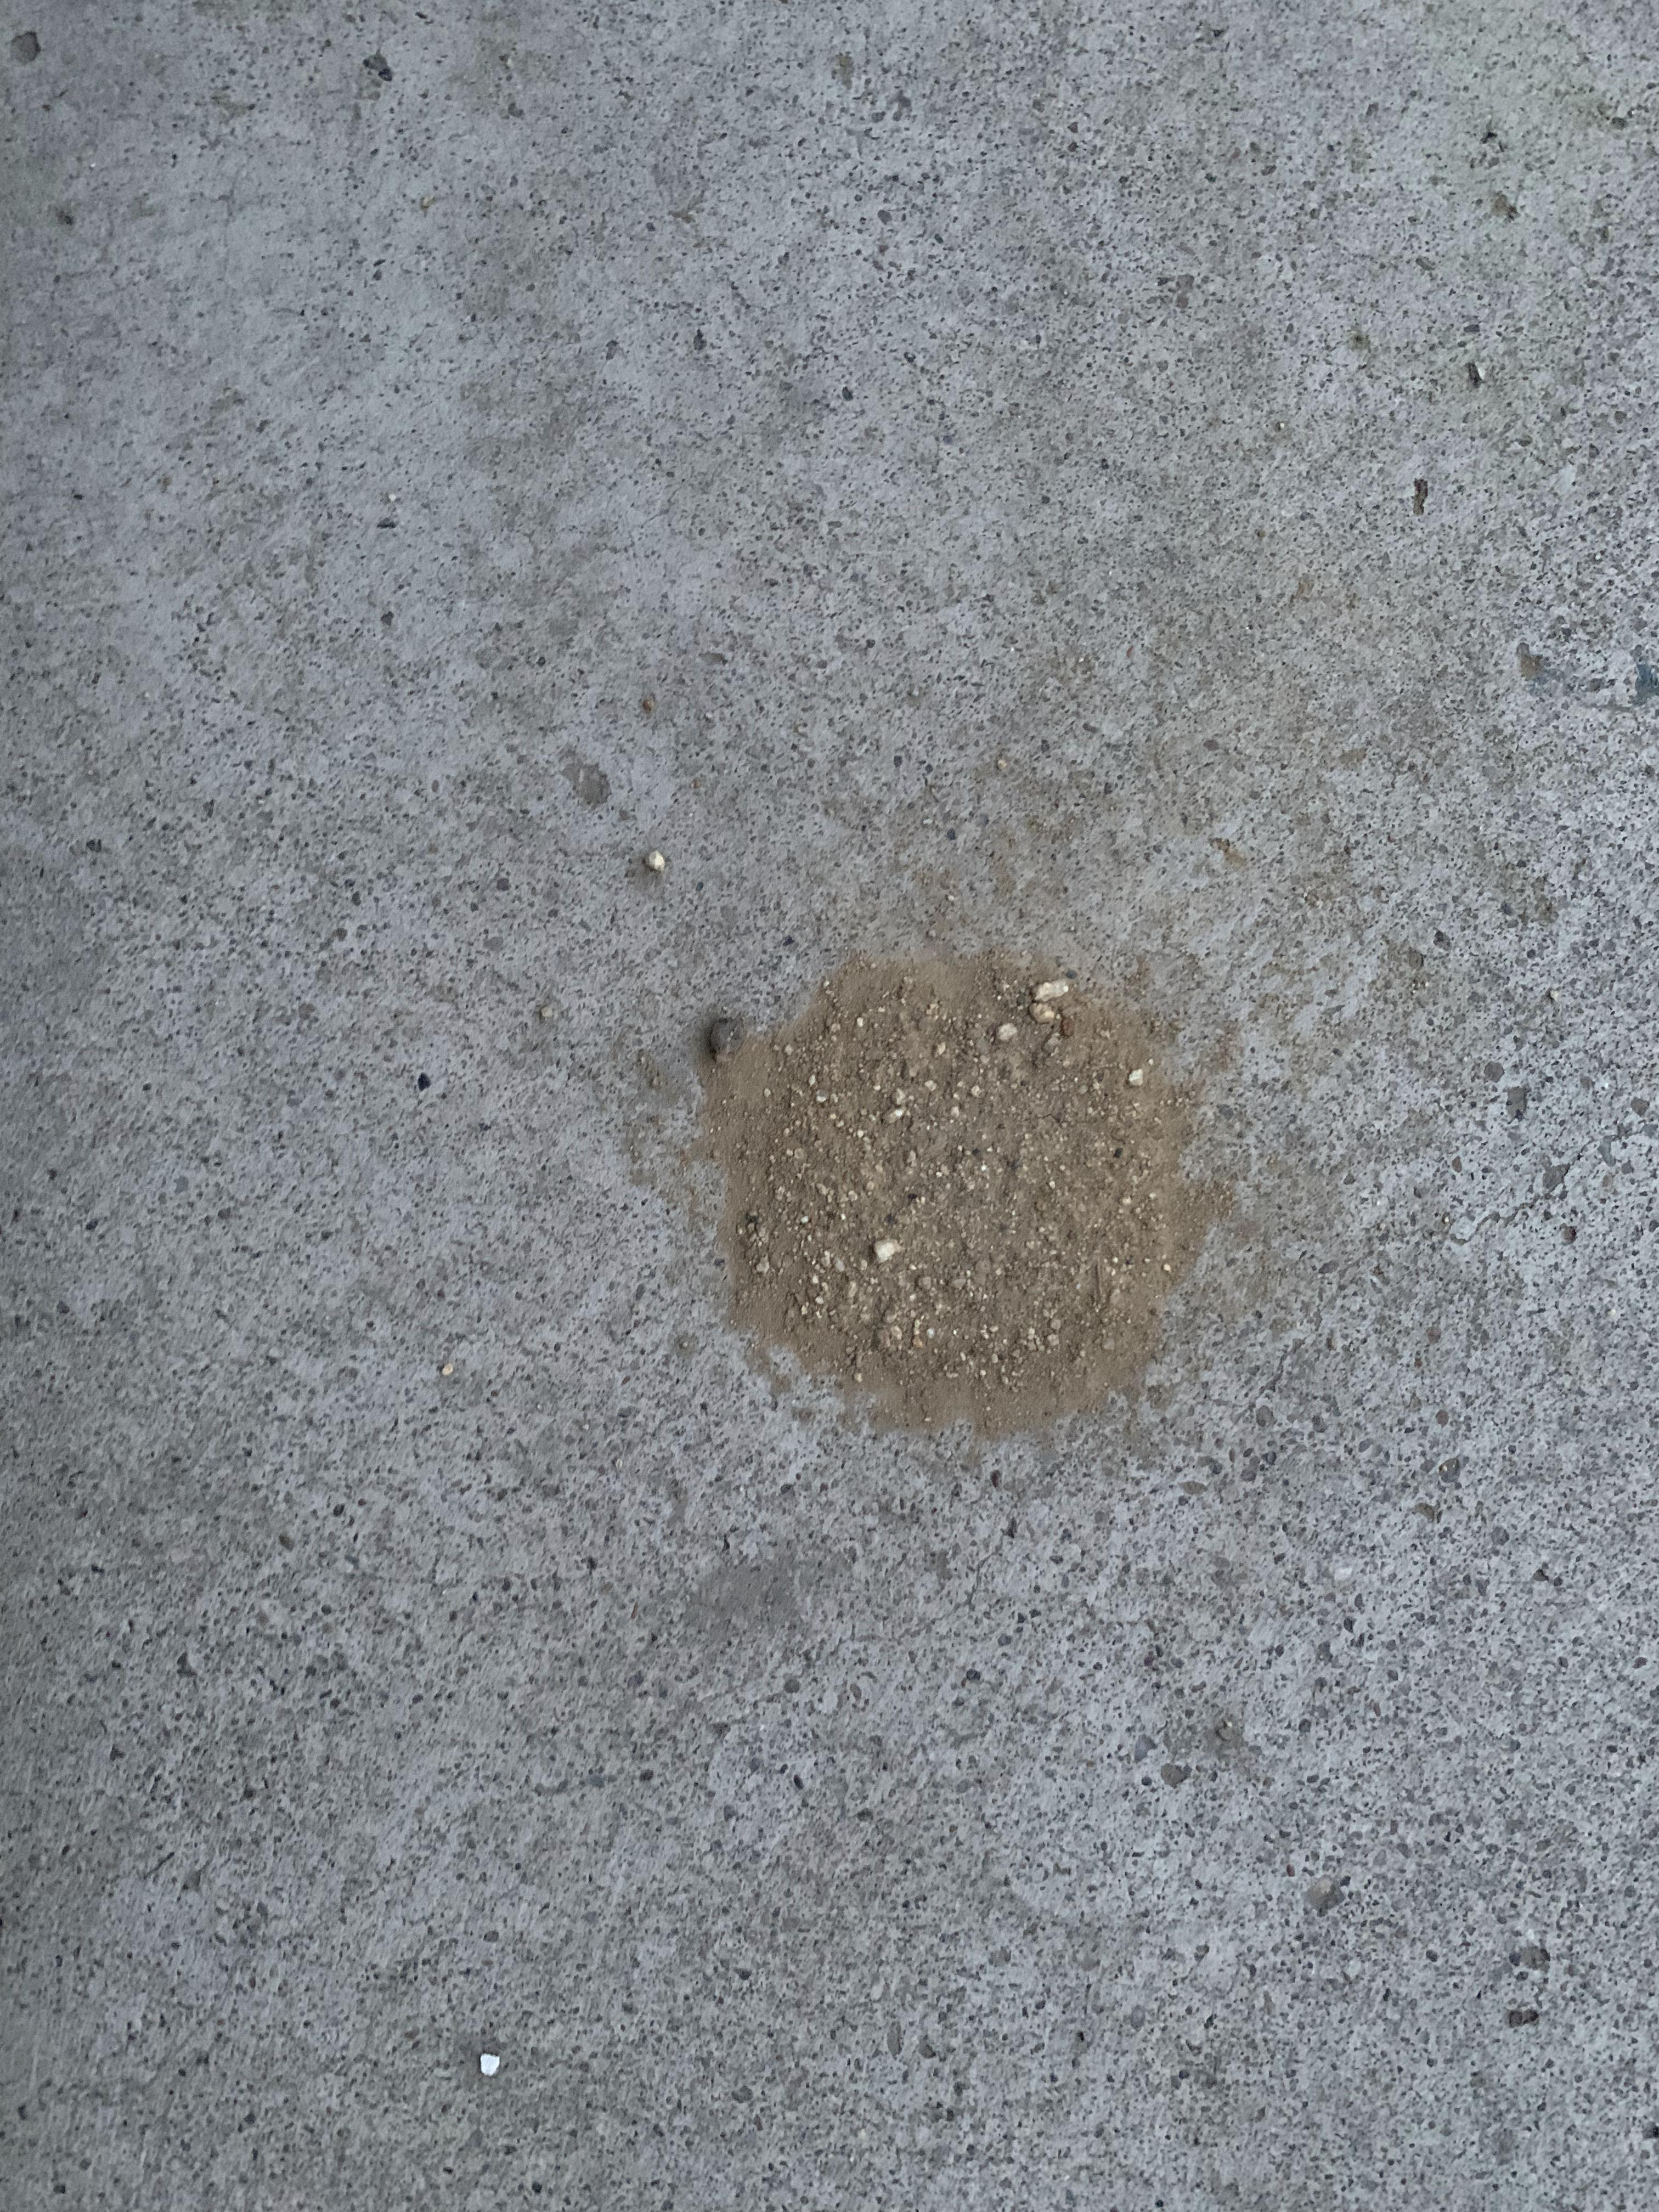grey spot: (697, 949, 1209, 1444)
